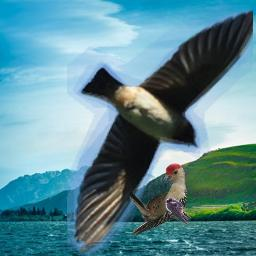Swallow: (67, 5, 253, 255), (165, 197, 191, 225)
Woodpecker: (130, 163, 187, 239)
